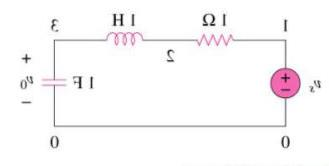inductor: (94, 29, 156, 60)
